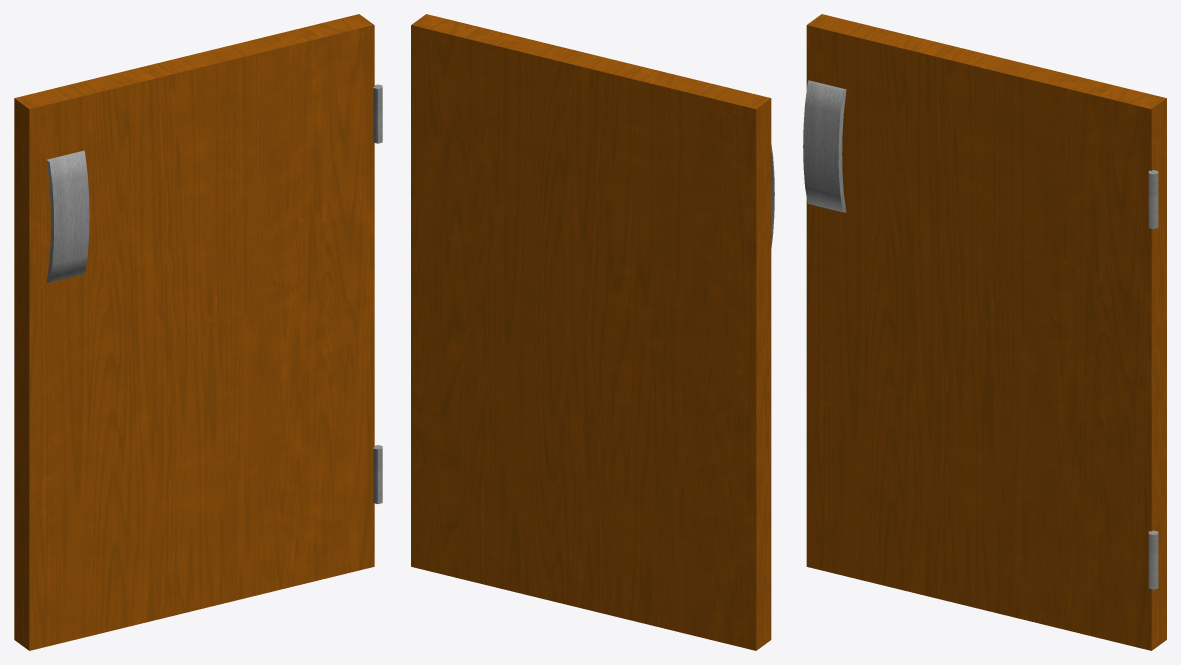
File: p6_wood_cabinet_door_left_lod0.glb
3 views of the same model, side by side, from view 1: azimuth 30°, elevation 25°; view 2: azimuth 150°, elevation 25°; view 3: azimuth 330°, elevation 25° (orthographic).
Visible parts, largest first — view 1: surf1, surf0; view 2: surf1; view 3: surf1, surf0.
Part boxes in pixels (box(x1,y1,x2,y2)): surf1: box(14, 14, 374, 650); surf0: box(46, 84, 382, 503); surf1: box(411, 14, 771, 650); surf1: box(806, 14, 1166, 650); surf0: box(803, 80, 1158, 589).
Size of the model in its own units: 20.11 by 29.53 by 2.89.
